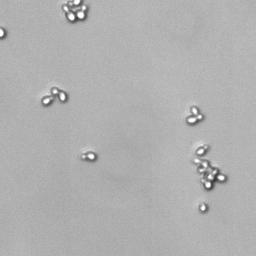budding: (60, 5, 90, 25), (185, 105, 203, 125), (51, 85, 70, 102), (40, 94, 55, 108), (81, 151, 96, 162), (195, 145, 210, 156), (60, 1, 90, 5)
cluster: (192, 157, 229, 190)
individual: (198, 201, 208, 213)
